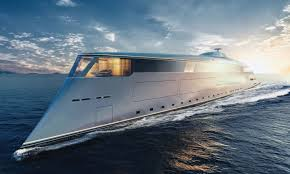tau_dansu: (26, 41, 273, 141)
